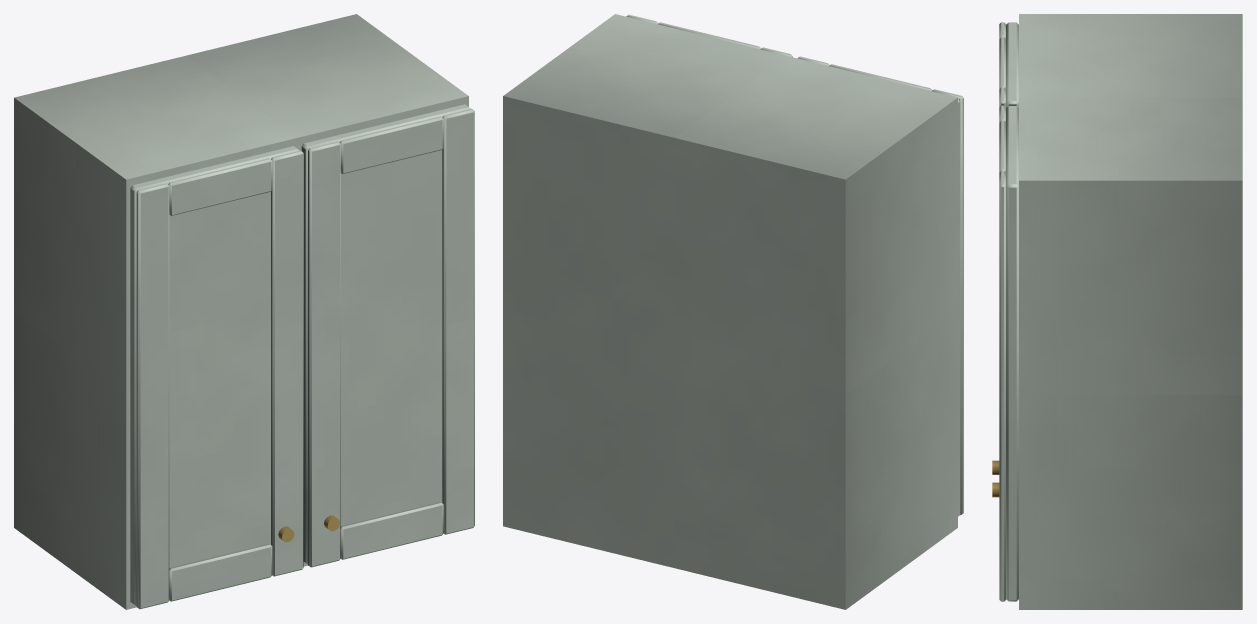
File: wall_cabinet.glb
3 renders of one model, left to right at view 1: azimuth 30°, elevation 25°; view 2: azimuth 150°, elevation 25°; view 3: azimuth 270°, elevation 25°, orthographic.
Parts seen in each view (by area): view 1: body; view 2: body; view 3: body.
Boxes of the visible parts, x1=… form: body: x1=14, y1=14, x2=474, y2=609; body: x1=503, y1=14, x2=963, y2=609; body: x1=992, y1=14, x2=1242, y2=609.
Size of what is drawn, in the model's own units: 0.6 by 0.732 by 0.381.
3 materials, 1 textured.
